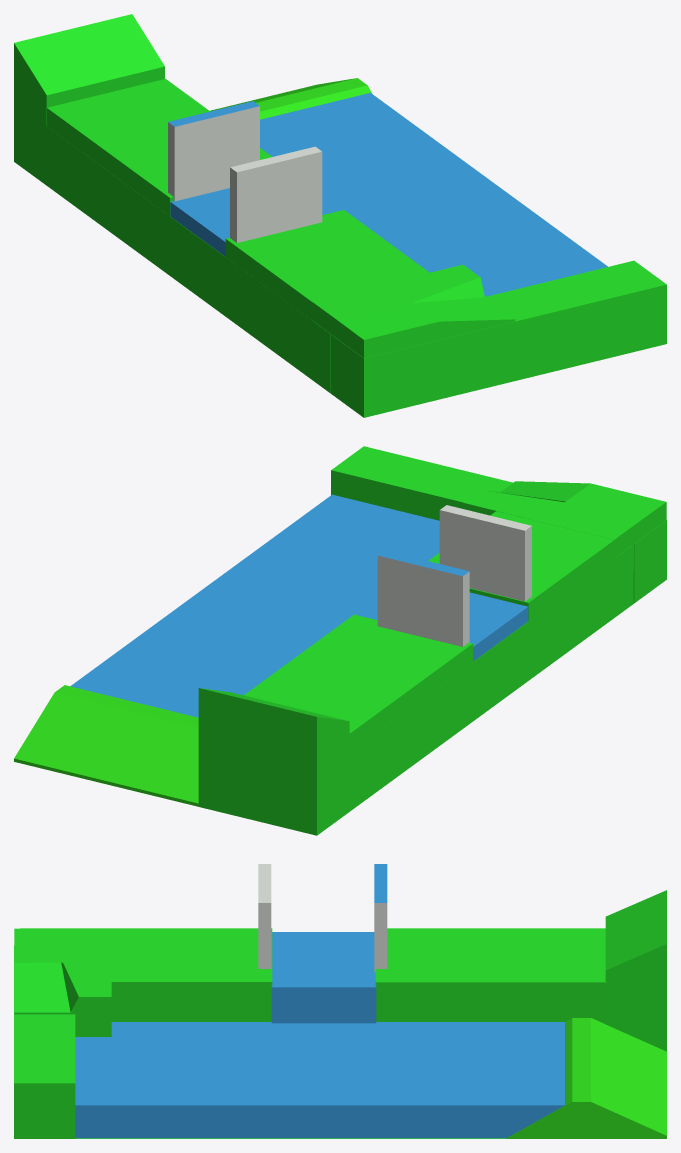
The model's file is course03.glb.
The picture shows the model from 3 angles, top to bottom: view 1: azimuth 30°, elevation 25°; view 2: azimuth 150°, elevation 25°; view 3: azimuth 270°, elevation 25°; orthographic projection. The views are drawn at different scales.
Visible parts, largest first — view 1: c3; view 2: c3; view 3: c3.
Boxes of the visible parts, <box> form: c3: <box>14,14,666,417</box>; c3: <box>14,446,666,835</box>; c3: <box>14,864,666,1138</box>.
Size of what is drawn, in the model's own units: 16 by 7.5 by 32.
